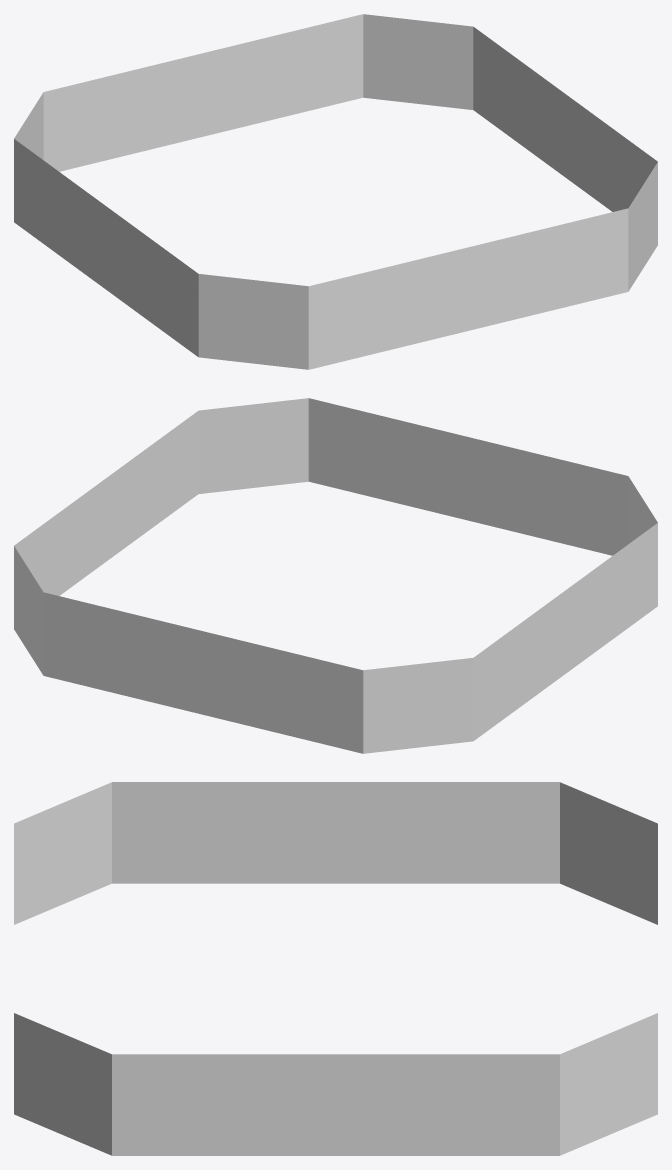
The model's file is variegator_shell_tintable.obj.
3 renders of one model, top to bottom at view 1: azimuth 30°, elevation 25°; view 2: azimuth 150°, elevation 25°; view 3: azimuth 270°, elevation 25°, orthographic. The views are drawn at different scales.
Visible parts, largest first — view 1: DEMO_COLORZONE_Plane.008; view 2: DEMO_COLORZONE_Plane.008; view 3: DEMO_COLORZONE_Plane.008.
Boxes of the visible parts, x1,y1,x2,y2 form: DEMO_COLORZONE_Plane.008: [14, 14, 657, 369]; DEMO_COLORZONE_Plane.008: [14, 398, 657, 753]; DEMO_COLORZONE_Plane.008: [14, 782, 657, 1155].
Bounding box in the file's own units: 0.7188 × 0.125 × 0.7188.
